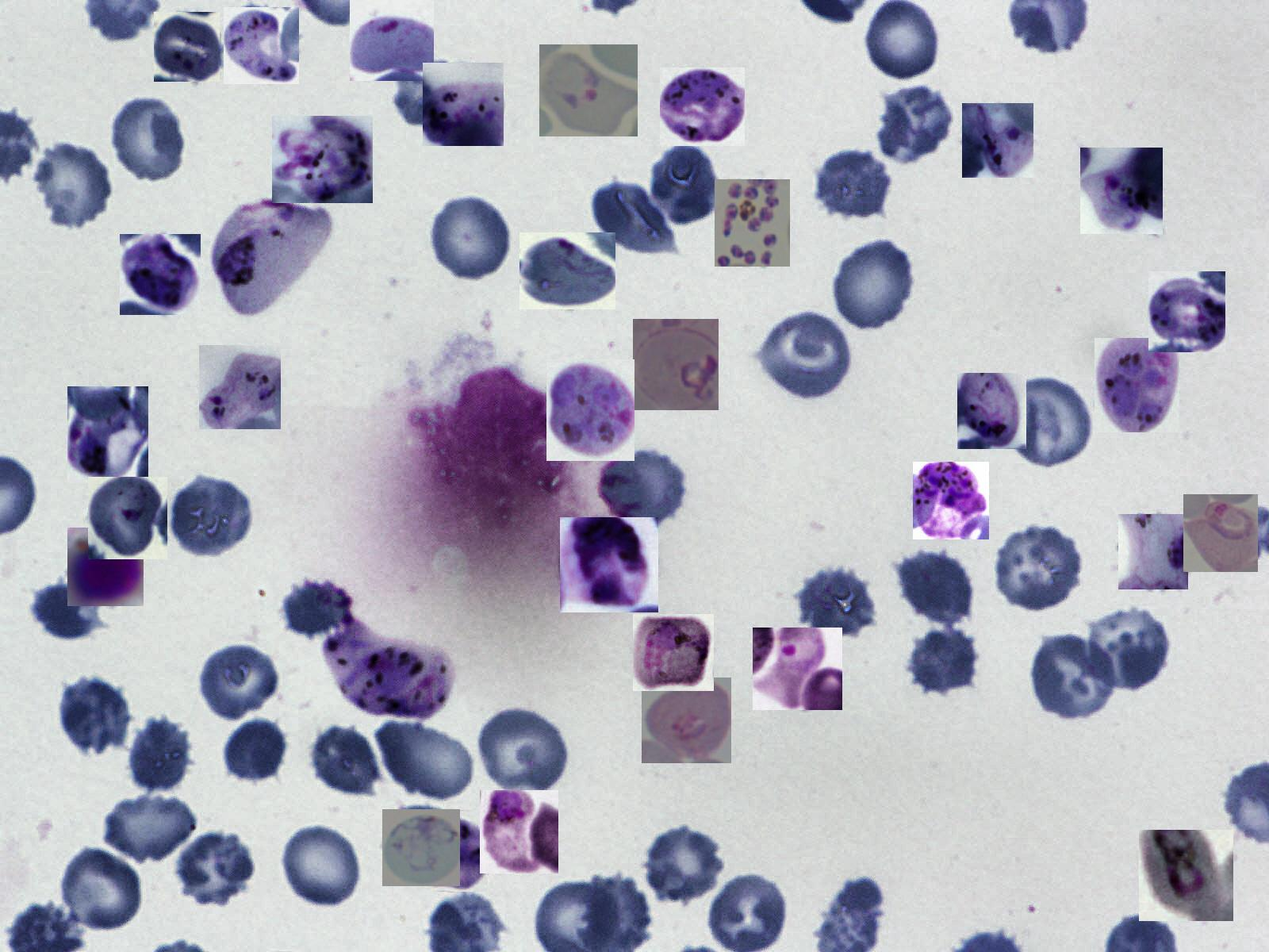Infected: (210, 200, 332, 312), (324, 626, 454, 722), (560, 517, 658, 612), (539, 44, 638, 136), (546, 359, 634, 461), (272, 116, 373, 203), (1139, 830, 1233, 921), (1095, 338, 1179, 432), (67, 386, 148, 483), (634, 319, 719, 410), (642, 678, 732, 763), (519, 232, 615, 309), (753, 628, 842, 710), (1080, 148, 1163, 234), (199, 345, 281, 429), (404, 810, 488, 892), (350, 0, 434, 81), (423, 63, 504, 146), (660, 67, 745, 146), (715, 179, 791, 267), (121, 234, 201, 315), (88, 477, 167, 559), (480, 790, 558, 873), (1148, 271, 1225, 352), (633, 614, 714, 691), (67, 528, 144, 607), (382, 809, 460, 886), (913, 463, 989, 540), (1183, 494, 1258, 572), (224, 7, 299, 84), (962, 103, 1033, 178), (1118, 514, 1188, 589), (957, 373, 1026, 449), (154, 12, 220, 82)
Uninfected: (475, 703, 574, 799), (757, 306, 855, 402), (373, 717, 477, 803), (1004, 374, 1096, 470), (991, 524, 1088, 612), (831, 236, 918, 332), (1028, 631, 1120, 721), (596, 444, 688, 532), (427, 193, 515, 285), (1086, 601, 1174, 690), (105, 90, 190, 182), (29, 140, 116, 229), (278, 823, 364, 910), (589, 177, 679, 258), (169, 475, 254, 559), (640, 823, 727, 904), (197, 640, 282, 722), (795, 561, 879, 643), (891, 544, 971, 630), (172, 831, 260, 908), (877, 80, 957, 164), (59, 851, 142, 931), (102, 797, 197, 864), (56, 675, 134, 756), (648, 142, 721, 228), (815, 144, 893, 218), (905, 623, 983, 697), (308, 724, 385, 797), (397, 60, 477, 129), (126, 716, 196, 793), (29, 578, 114, 641), (223, 716, 291, 787), (280, 581, 356, 640)
